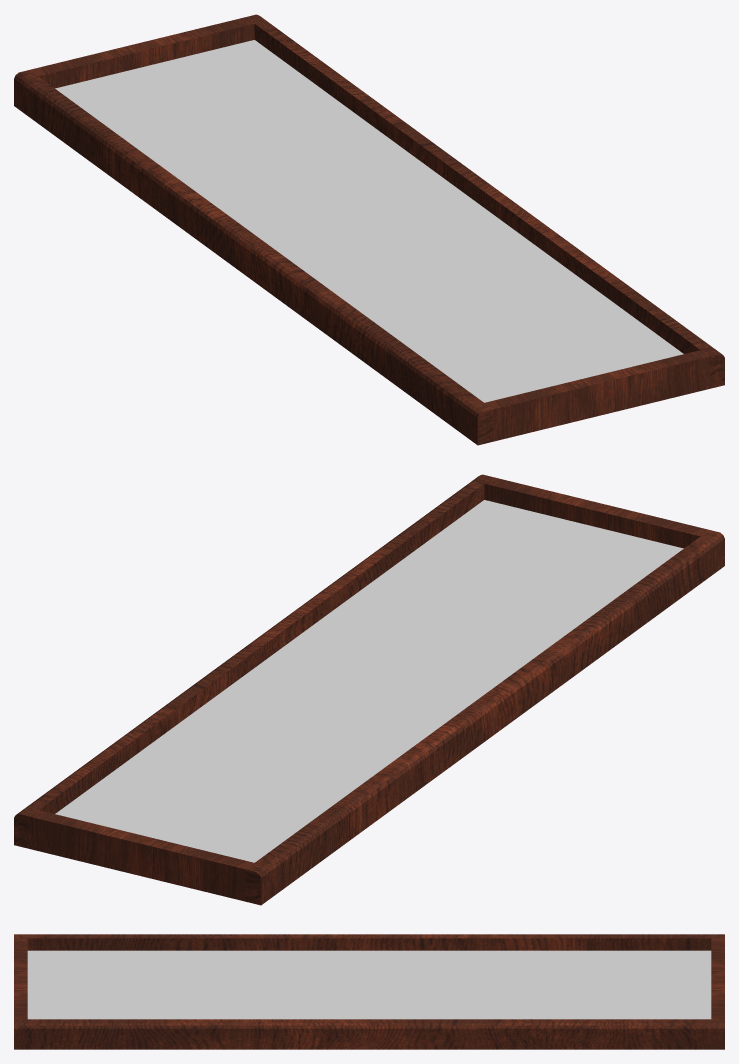
Rendered from Track.fbx.
3 renders of one model, top to bottom at view 1: azimuth 30°, elevation 25°; view 2: azimuth 150°, elevation 25°; view 3: azimuth 270°, elevation 25°, orthographic. The views are drawn at different scales.
Visible parts, largest first — view 1: Ground, ShortEdge; view 2: Ground, ShortEdge; view 3: Ground, ShortEdge.
Boxes of the visible parts, box(x1,y1,x2,y2) form: Ground: box(55, 40, 683, 402); ShortEdge: box(14, 14, 724, 445); Ground: box(55, 500, 683, 862); ShortEdge: box(14, 474, 724, 905); Ground: box(27, 950, 711, 1019); ShortEdge: box(14, 934, 724, 1049).
Size of the model in its own units: 3200 by 400 by 10400.
2 materials, 1 textured.
